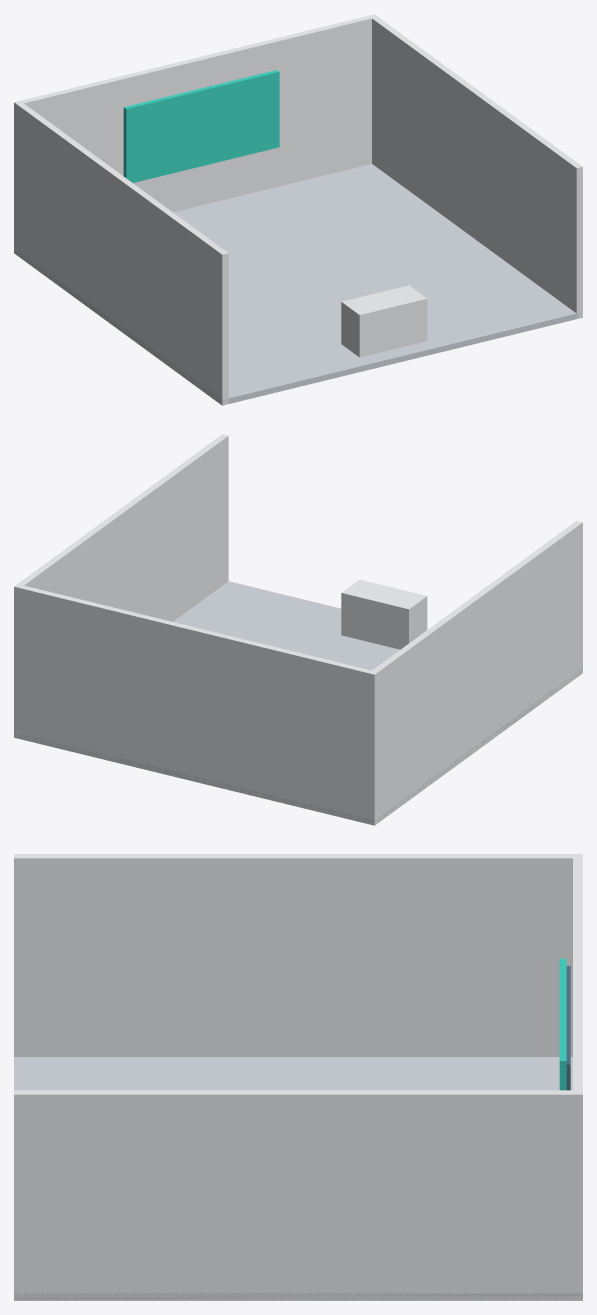
The picture shows the model from 3 angles, top to bottom: view 1: azimuth 30°, elevation 25°; view 2: azimuth 150°, elevation 25°; view 3: azimuth 270°, elevation 25°; orthographic projection. The views are drawn at different scales.
Parts seen in each view (by area): view 1: Exhibition Booth Concept; view 2: Exhibition Booth Concept; view 3: Exhibition Booth Concept.
Part boxes in pixels (box(x1,y1,x2,y2)): Exhibition Booth Concept: box(14, 14, 582, 405); Exhibition Booth Concept: box(14, 434, 582, 825); Exhibition Booth Concept: box(14, 854, 582, 1300).
Size of the model in its own units: 8 by 3.2 by 8.
